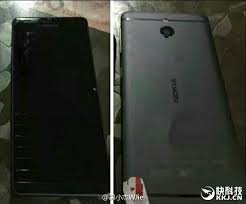nokia: (120, 7, 240, 199)
